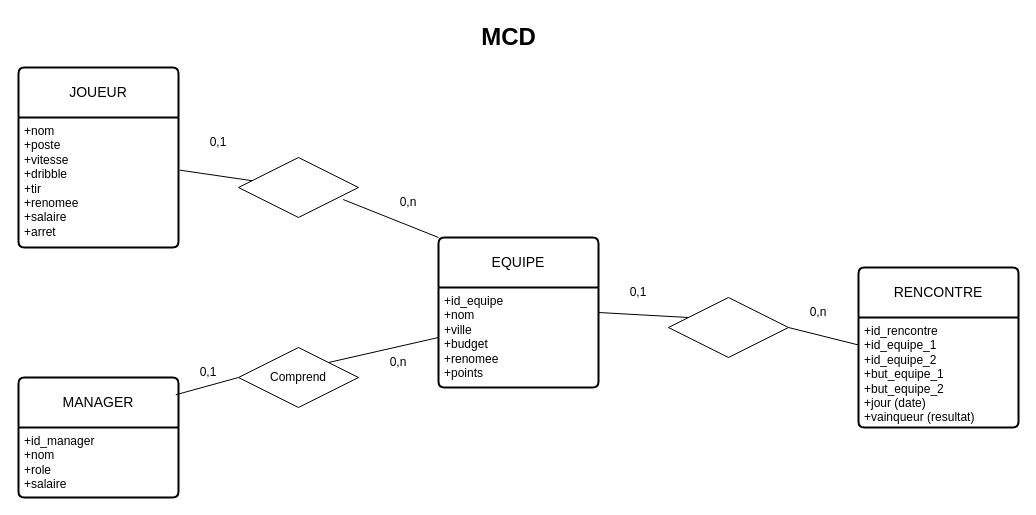
This 1036x515 diagram has some shape labels left out. The shapes that lost their labels are listed below. From the top down, each one's centre as x and y in pixels, then its label:
point 298,187: Compte
point 728,327: Dispute
